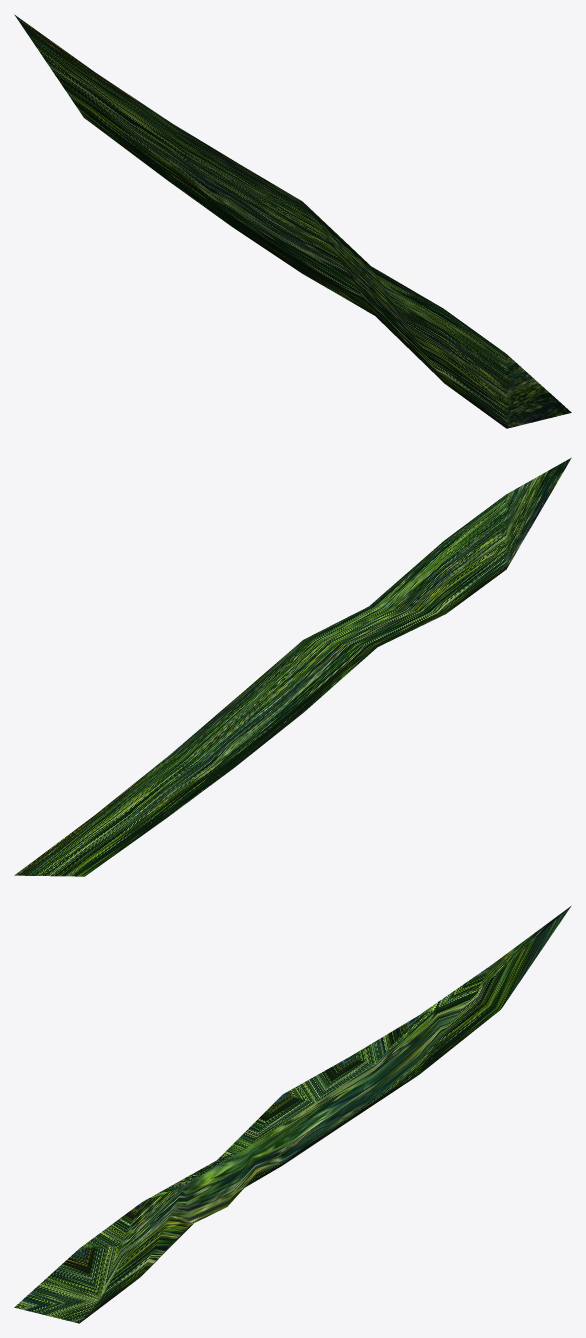
The picture shows the model from 3 angles, top to bottom: view 1: azimuth 30°, elevation 25°; view 2: azimuth 150°, elevation 25°; view 3: azimuth 330°, elevation 25°; orthographic projection.
Parts seen in each view (by area): view 1: algae_cube_Cube; view 2: algae_cube_Cube; view 3: algae_cube_Cube.
Boxes of the visible parts, <box> form: algae_cube_Cube: <box>14,14,571,428</box>; algae_cube_Cube: <box>14,457,571,876</box>; algae_cube_Cube: <box>14,905,571,1323</box>.
Size of the model in its own units: 0.0149 by 0.1992 by 2.54.
